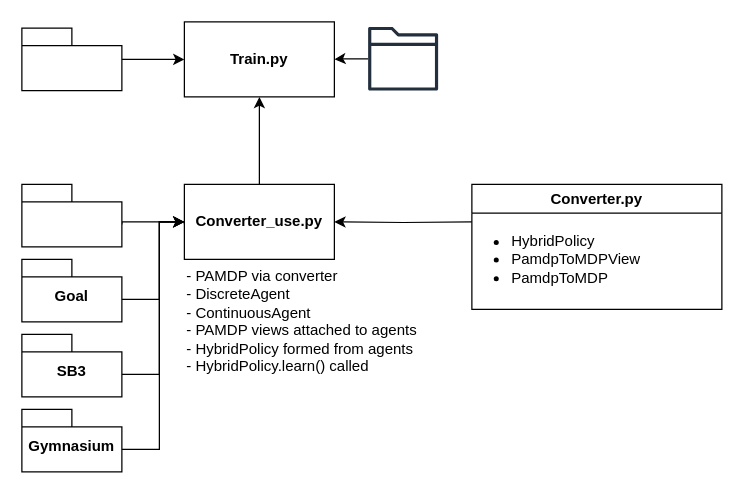
This 744x494 diagram has some shape labels left out. The shapes that lost their labels are listed below. From the top down, each one's centre as x and y in pixels, then its label:
(x=71, y=59): Hydra
(x=403, y=58): /SARL/sarl/config/ /SARL/sarl/config/experiments/
(x=71, y=215): Platform
